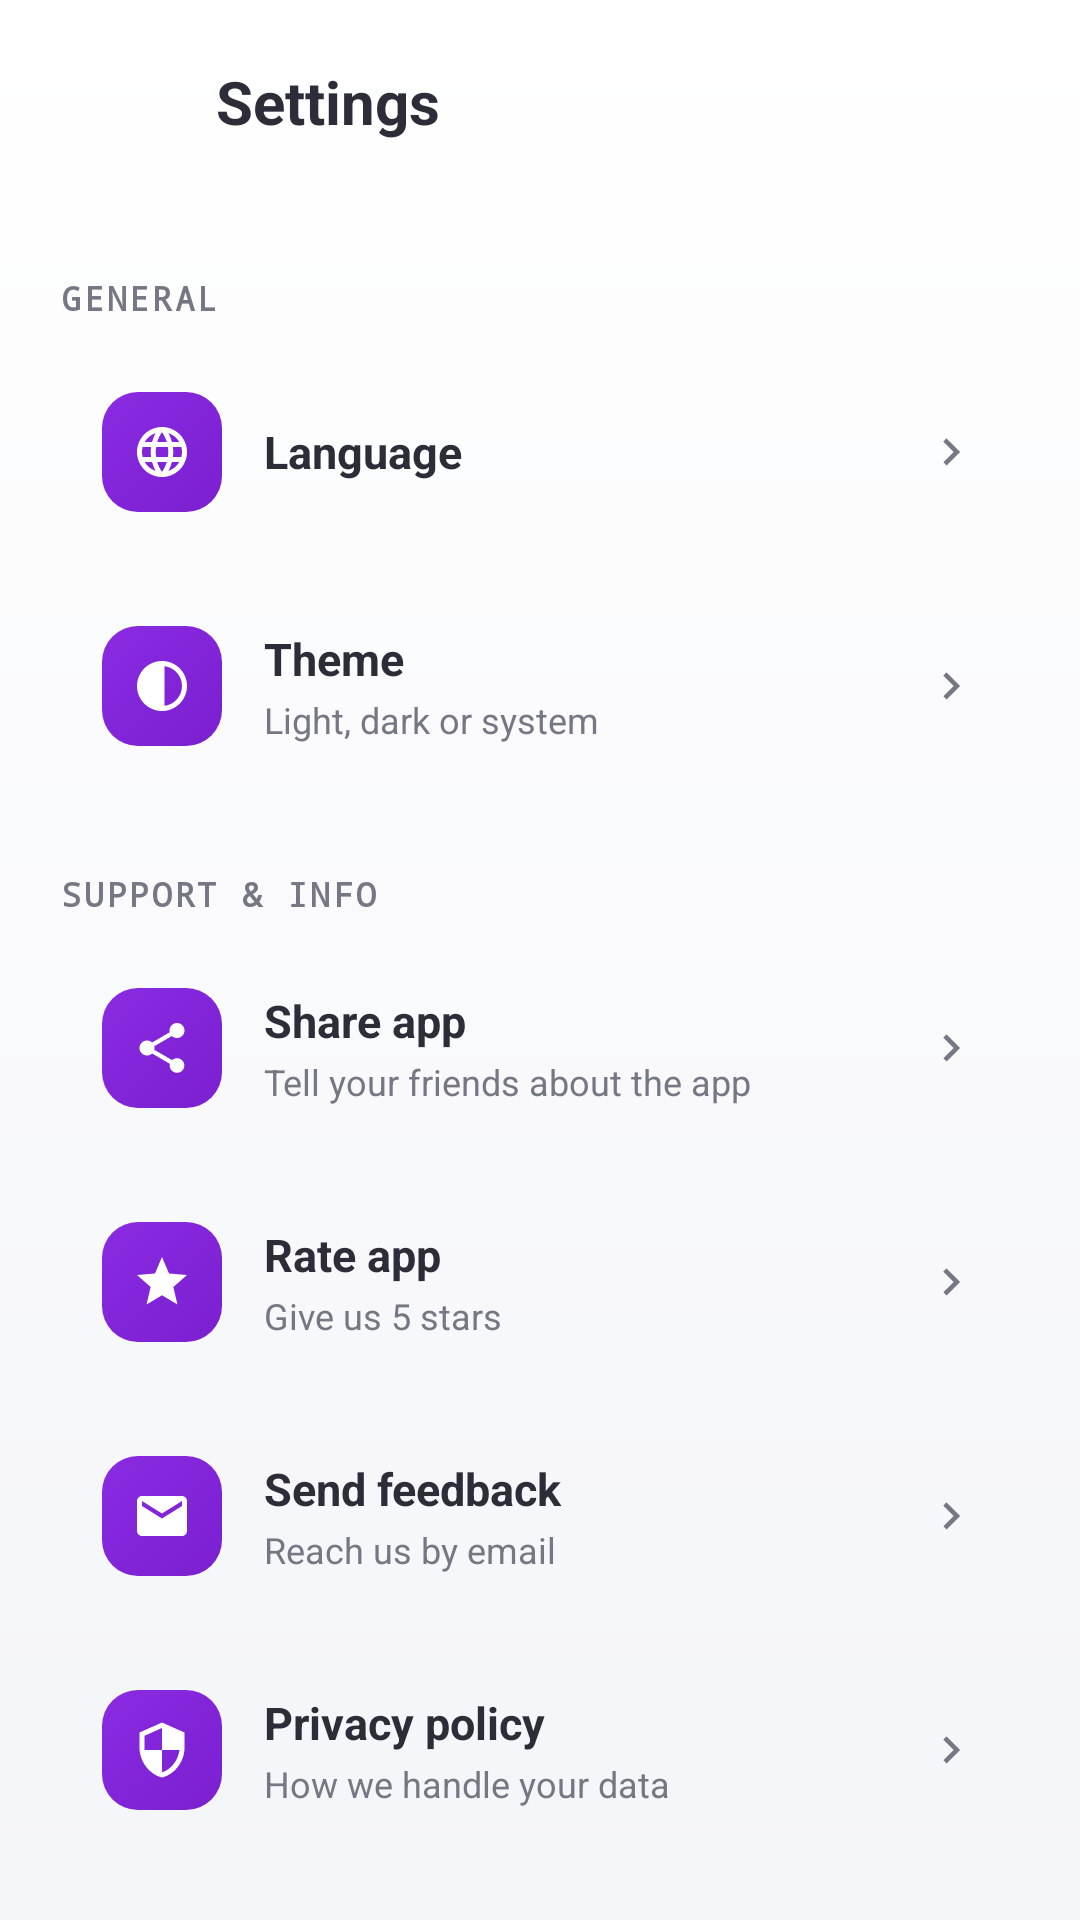

Where icons sit on this 1080 x 1920 app screen, as [x1=x1, y1=y1, x2=x2, y2=y2]:
shield: [x1=139, y1=1722, x2=185, y2=1778]
